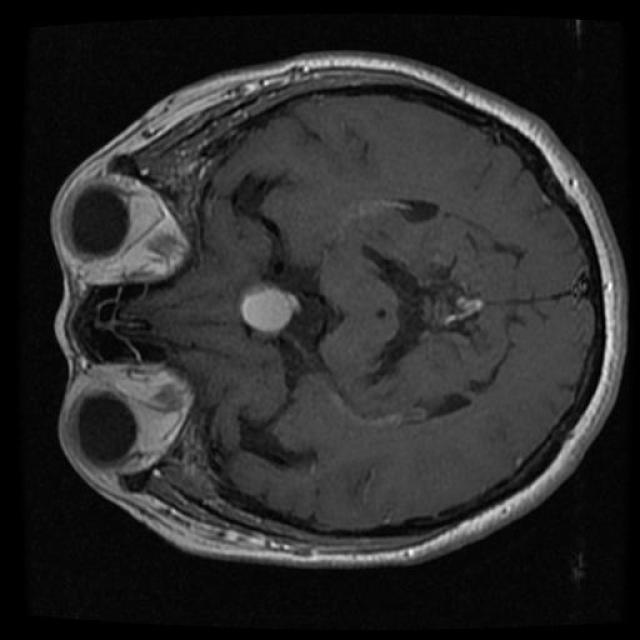Pituitary: (240, 285, 301, 335)
